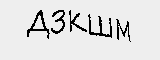Д: (25, 8, 49, 37)
З: (50, 7, 68, 37)
К: (68, 9, 86, 37)
М: (114, 17, 133, 44)
Ш: (86, 14, 114, 39)
